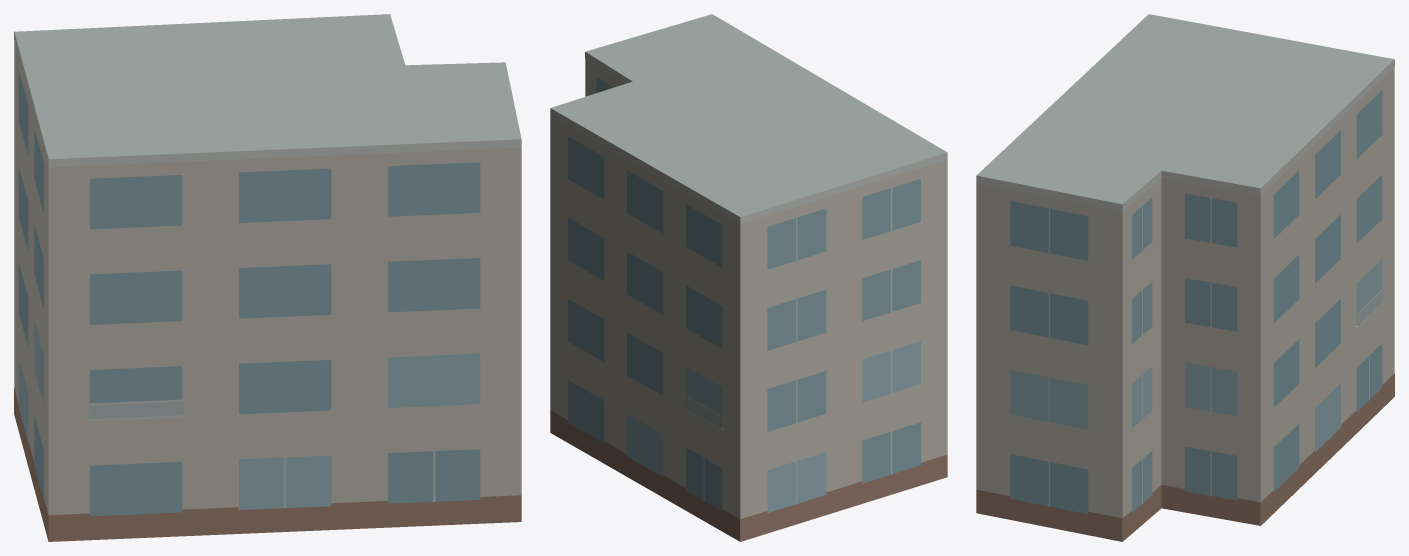
File: survey-upis-33042206.glb
The picture shows the model from 3 angles, left to right: view 1: azimuth 30°, elevation 25°; view 2: azimuth 150°, elevation 25°; view 3: azimuth 270°, elevation 25°; orthographic projection. The views are drawn at different scales.
Parts seen in each view (by area): view 1: survey-upis-33042206.tmp; view 2: survey-upis-33042206.tmp; view 3: survey-upis-33042206.tmp.
Part boxes in pixels (<box>): survey-upis-33042206.tmp: <box>14,14,521,541</box>; survey-upis-33042206.tmp: <box>550,14,947,541</box>; survey-upis-33042206.tmp: <box>976,14,1394,541</box>.
Size of the model in its own units: 13.79 by 11.4 by 12.81.
